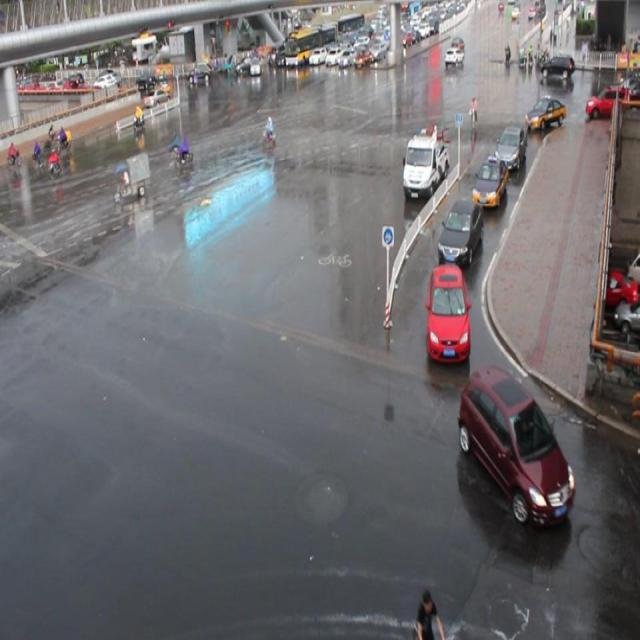bus: (402, 128, 450, 200)
car: (458, 364, 572, 524), (424, 264, 468, 362), (437, 198, 481, 262), (470, 157, 506, 207), (492, 124, 524, 171), (524, 97, 564, 132)
